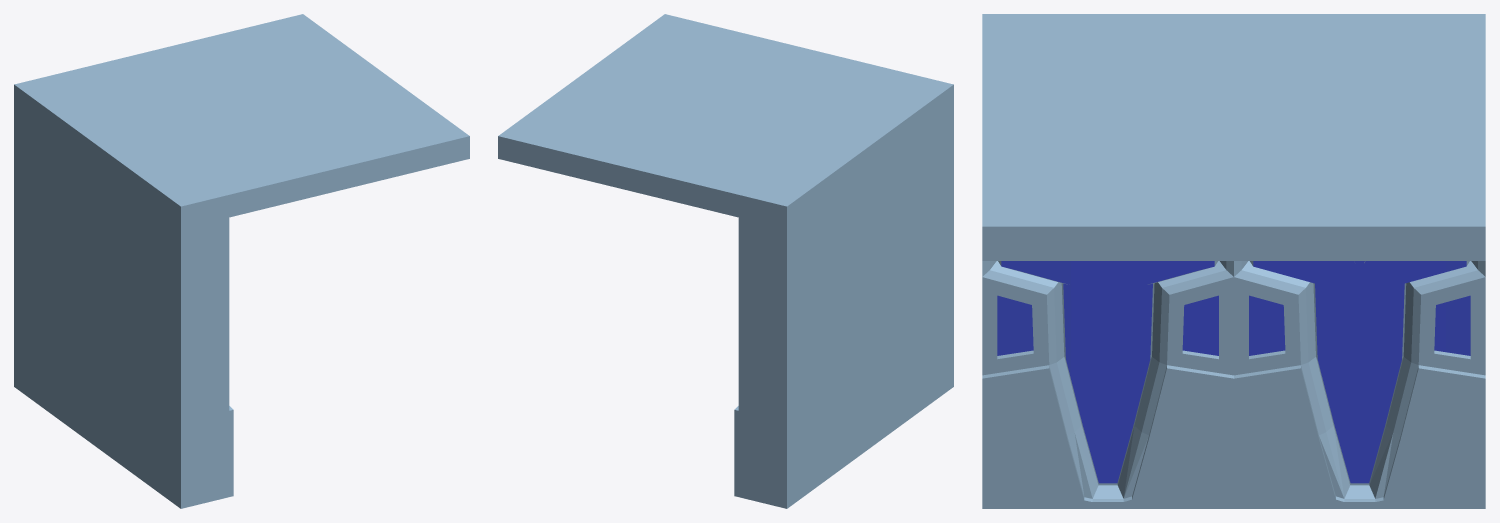
The model's file is EspacioRedSocialParedInteriorBajoNI.gltf.
3 renders of one model, left to right at view 1: azimuth 30°, elevation 25°; view 2: azimuth 150°, elevation 25°; view 3: azimuth 270°, elevation 25°, orthographic. The views are drawn at different scales.
Parts seen in each view (by area): view 1: Cubo.27; view 2: Cubo.27; view 3: Cubo.27.
Boxes of the visible parts, x1,y1,x2,y2 form: Cubo.27: [14, 14, 469, 508]; Cubo.27: [498, 14, 953, 508]; Cubo.27: [982, 14, 1485, 508].
Bounding box in the file's own units: 2 × 2 × 2.
Materials: 1 (1 with a texture image).
